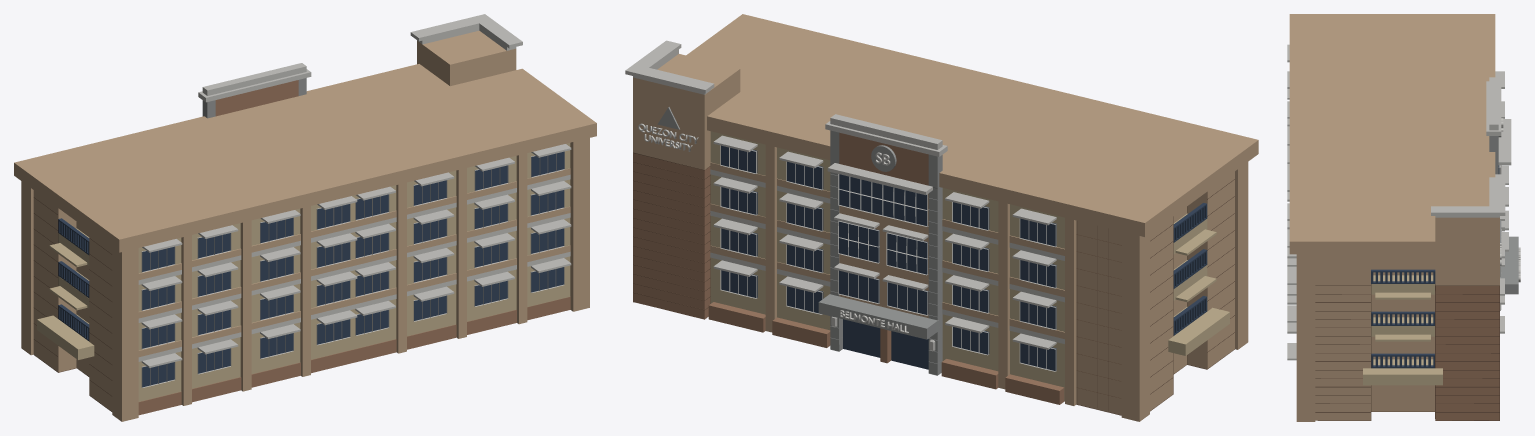
File: og_belmonte.glb
3 renders of one model, left to right at view 1: azimuth 30°, elevation 25°; view 2: azimuth 150°, elevation 25°; view 3: azimuth 270°, elevation 25°, orthographic. The views are drawn at different scales.
Visible parts, largest first — view 1: BELMONTE BUILDING; view 2: BELMONTE BUILDING, QCU; view 3: BELMONTE BUILDING.
Boxes of the visible parts, left/top/right/bottom form: BELMONTE BUILDING: left=14, top=14, right=596, bottom=421; BELMONTE BUILDING: left=625, top=14, right=1258, bottom=421; QCU: left=638, top=123, right=698, bottom=151; BELMONTE BUILDING: left=1287, top=14, right=1518, bottom=421.
Size of the model in its own units: 5.95 by 2.49 by 2.5.
